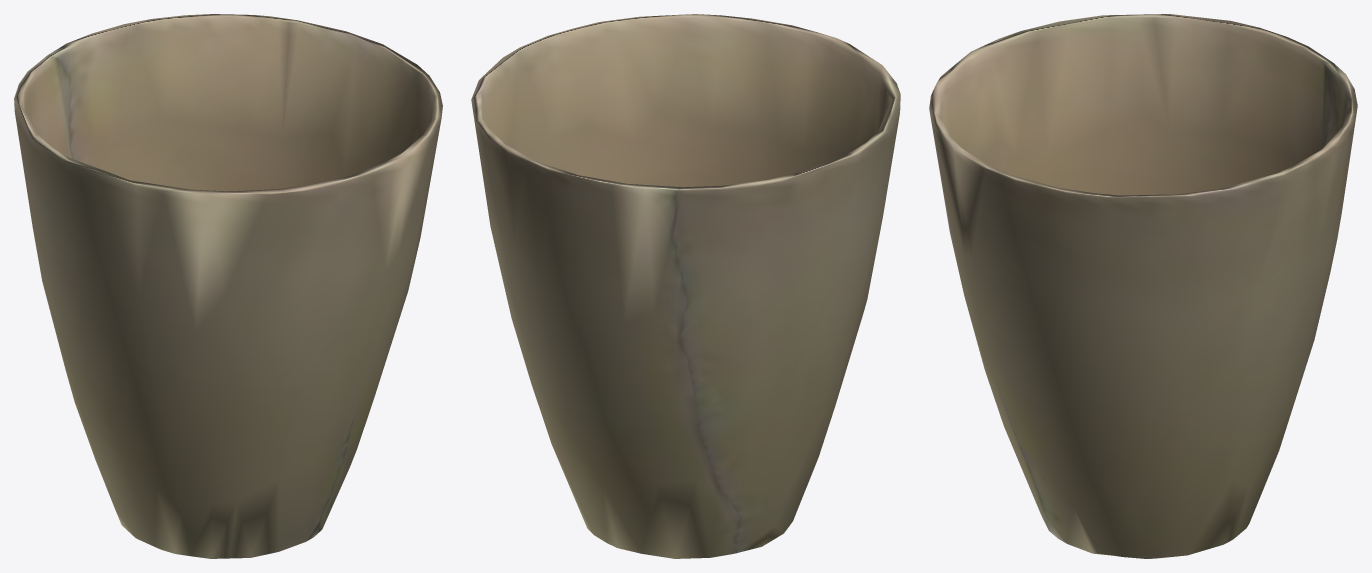
Rendered from Ecoforms_Plant_Container_URN_SAN-medium.glb.
The picture shows the model from 3 angles, left to right: view 1: azimuth 30°, elevation 25°; view 2: azimuth 150°, elevation 25°; view 3: azimuth 270°, elevation 25°; orthographic projection.
Parts seen in each view (by area): view 1: Ecoforms_Plant_Container_URN_SAN; view 2: Ecoforms_Plant_Container_URN_SAN; view 3: Ecoforms_Plant_Container_URN_SAN.
Part boxes in pixels (x1,y1,x2,y2): Ecoforms_Plant_Container_URN_SAN: (14,14,442,558); Ecoforms_Plant_Container_URN_SAN: (471,14,900,558); Ecoforms_Plant_Container_URN_SAN: (929,14,1357,558).
Size of the model in its own units: 0.1486 by 0.1591 by 0.1487.
1 material, 1 textured.
